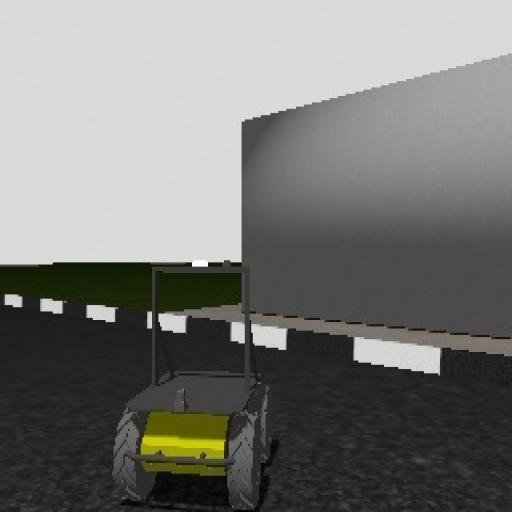huskya200: (112, 249, 275, 512)
